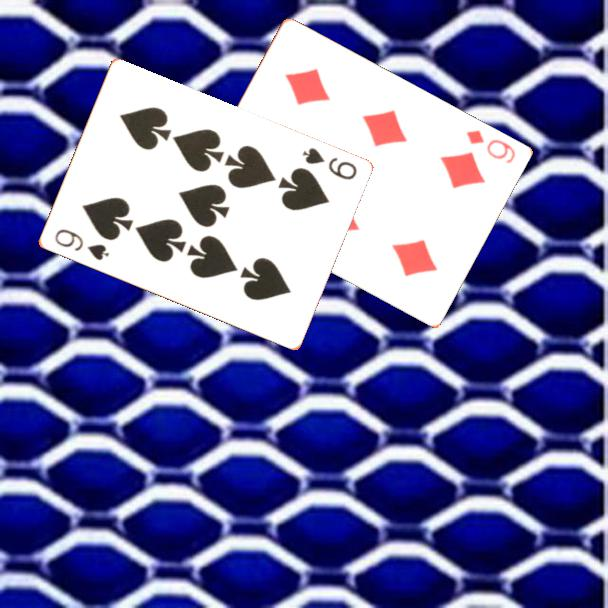d06: (462, 126, 518, 167)
s09: (298, 144, 360, 183), (51, 225, 112, 264)
